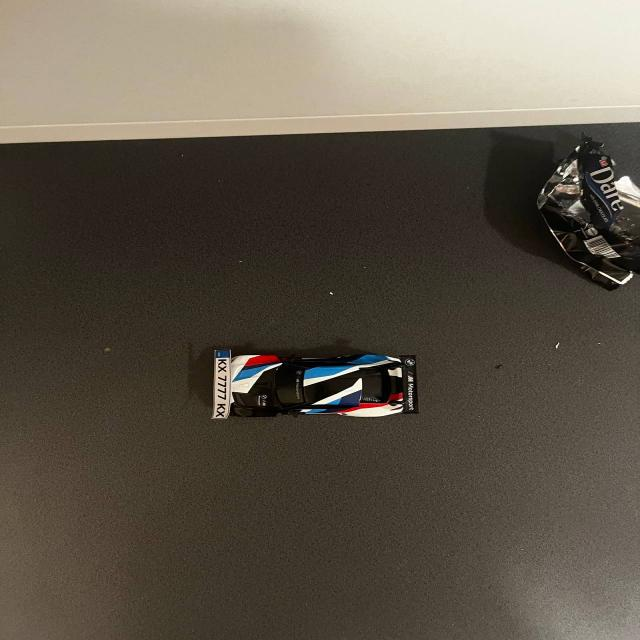cars: (188, 337, 428, 436)
